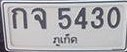txt01: (9, 6, 29, 30)
txt06: (30, 6, 48, 31)
